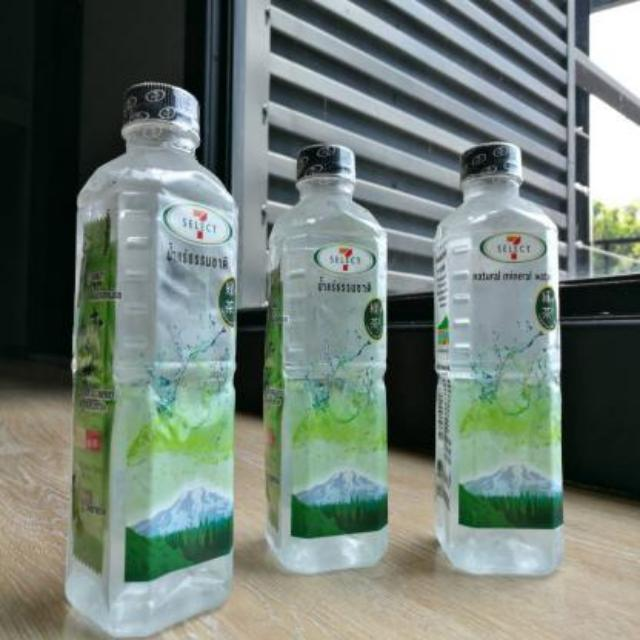bottle: (56, 71, 244, 638), (418, 133, 586, 589), (256, 134, 399, 580)
